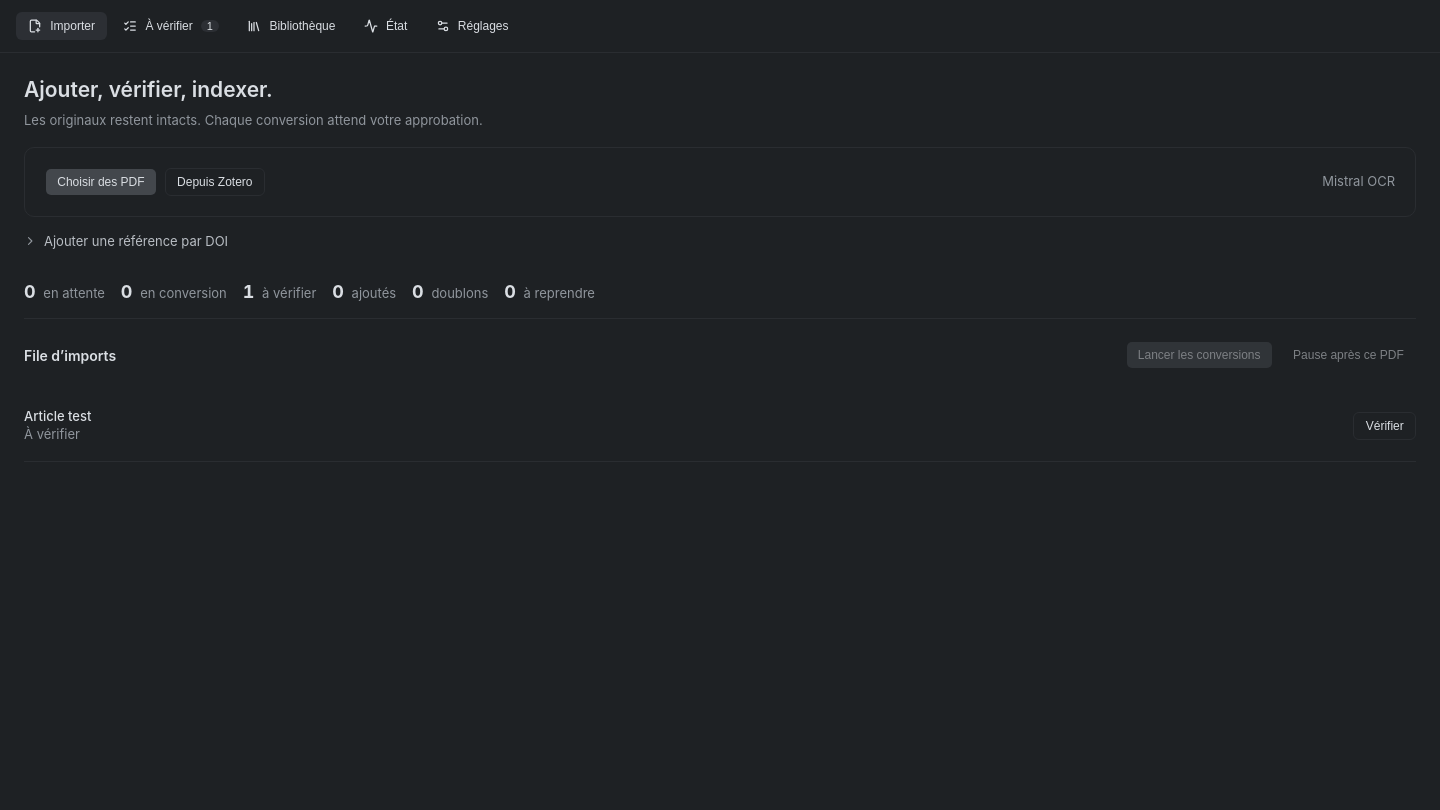
Scenario: refreshes open Zotero status after a confirmed import
Click the button "Depuis Zotero" at (215, 182), box [165,168,265,196]
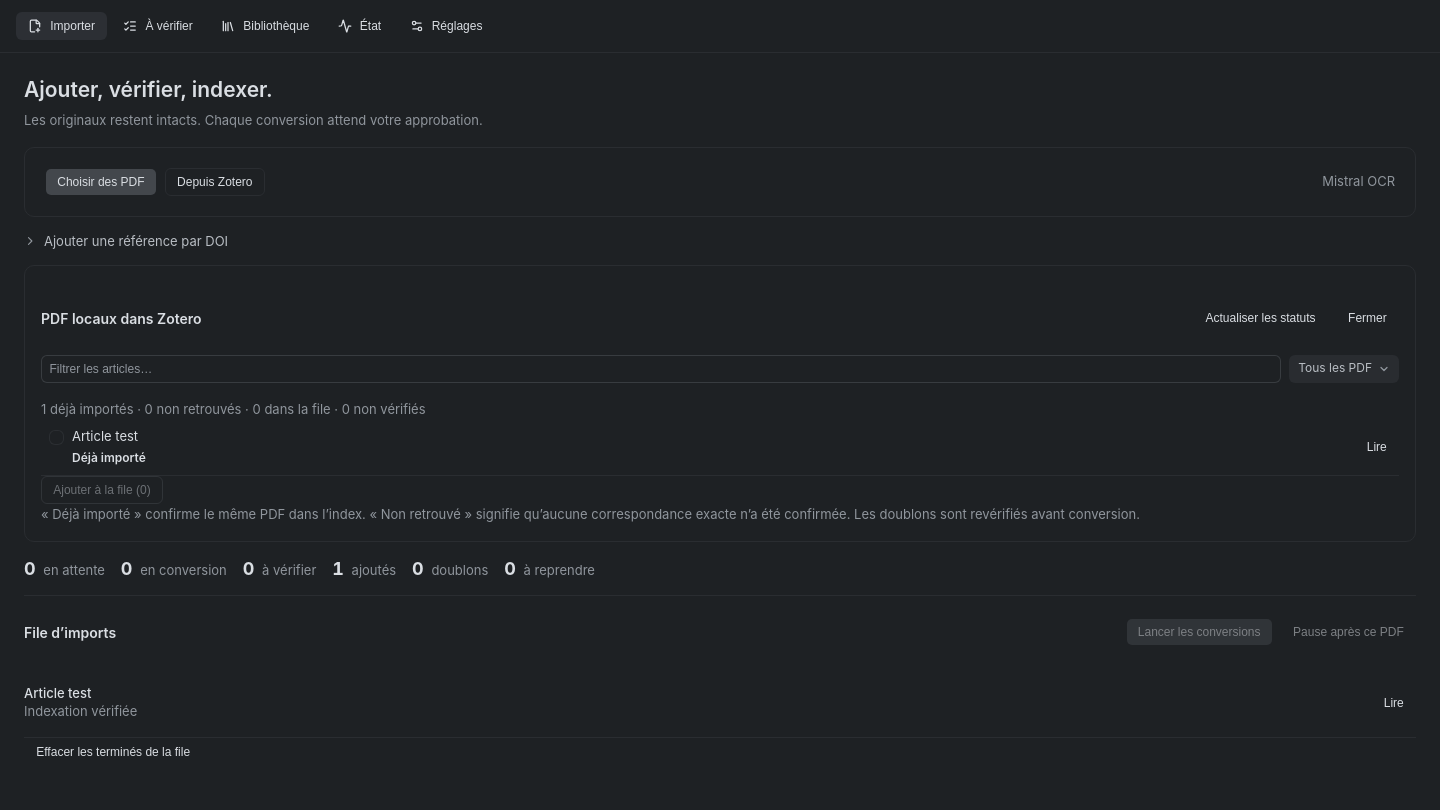
Check: the text "Déjà importé" is shown, box [72,448,146,467]
